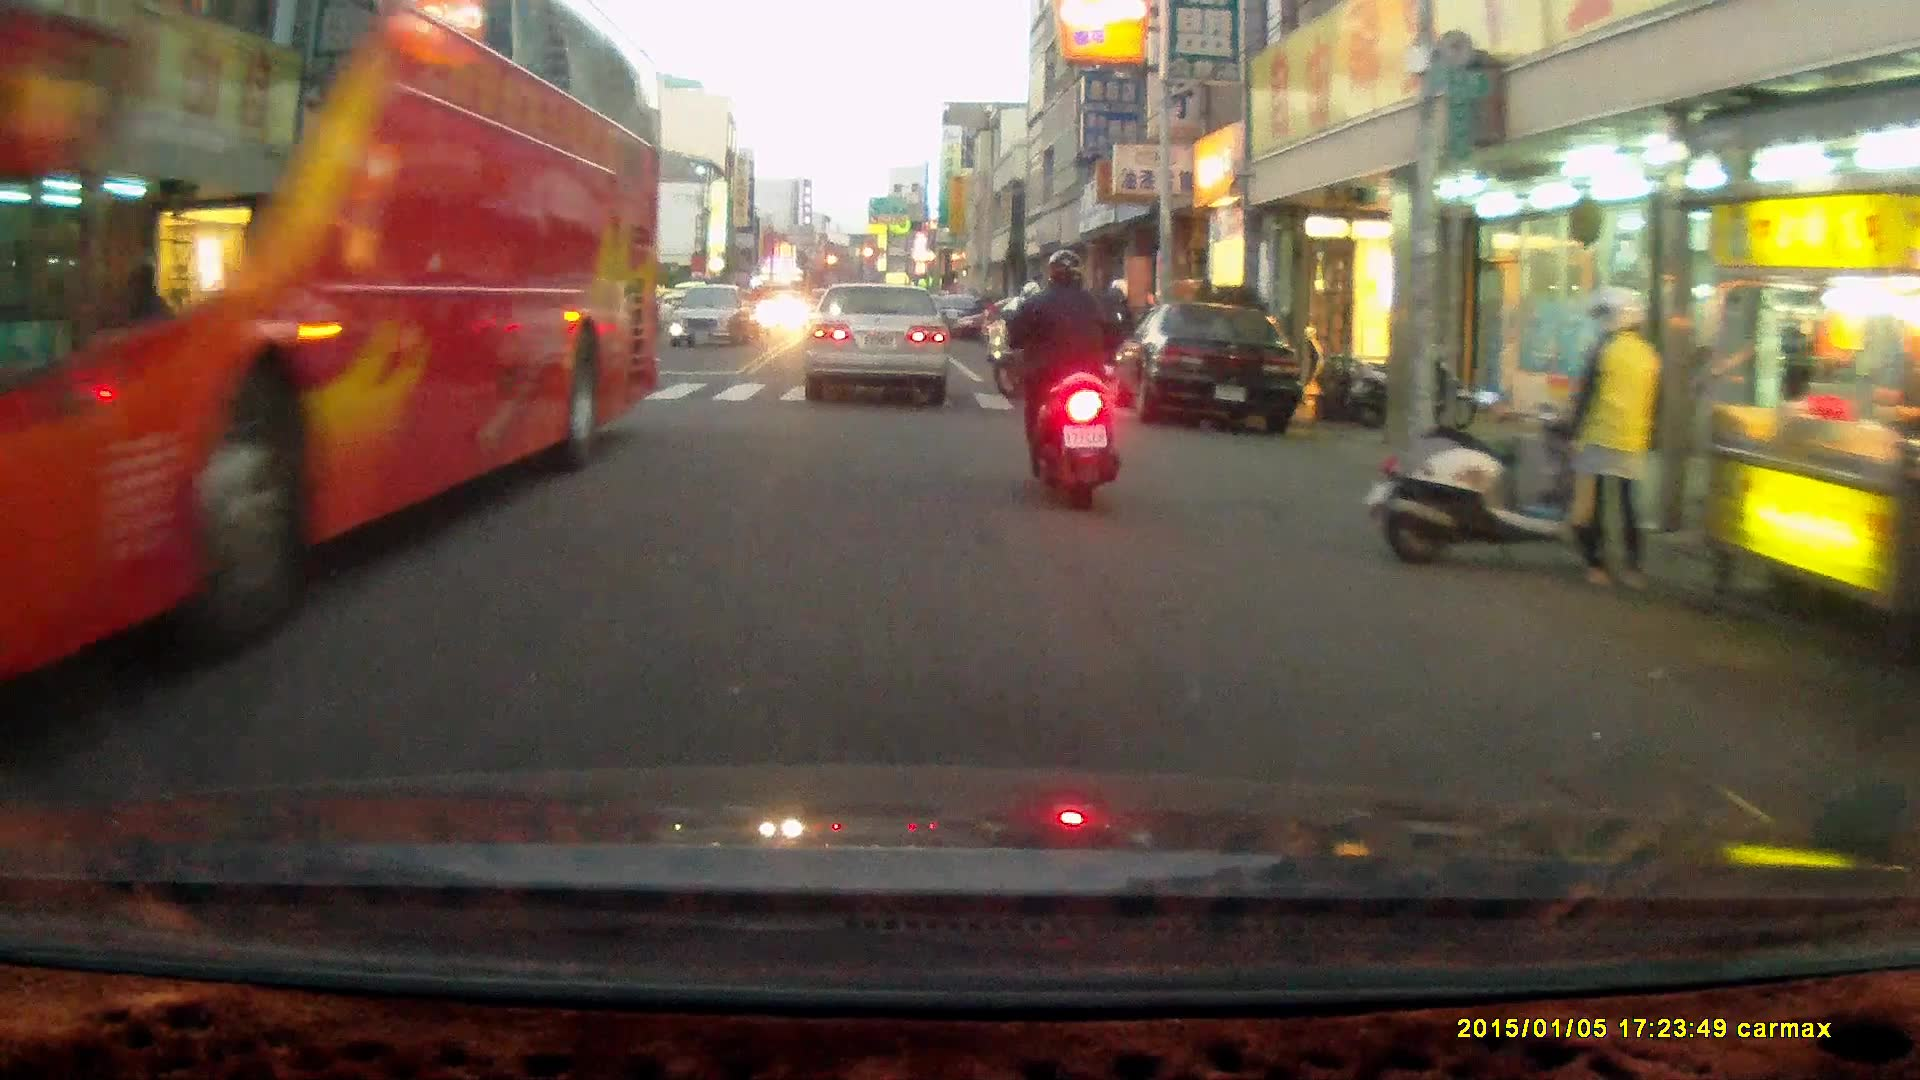pedestrian: (1565, 281, 1665, 596)
rider: (997, 246, 1122, 513)
vehicle: (1, 16, 674, 677), (1112, 301, 1317, 433), (806, 281, 954, 404), (669, 283, 756, 352)
